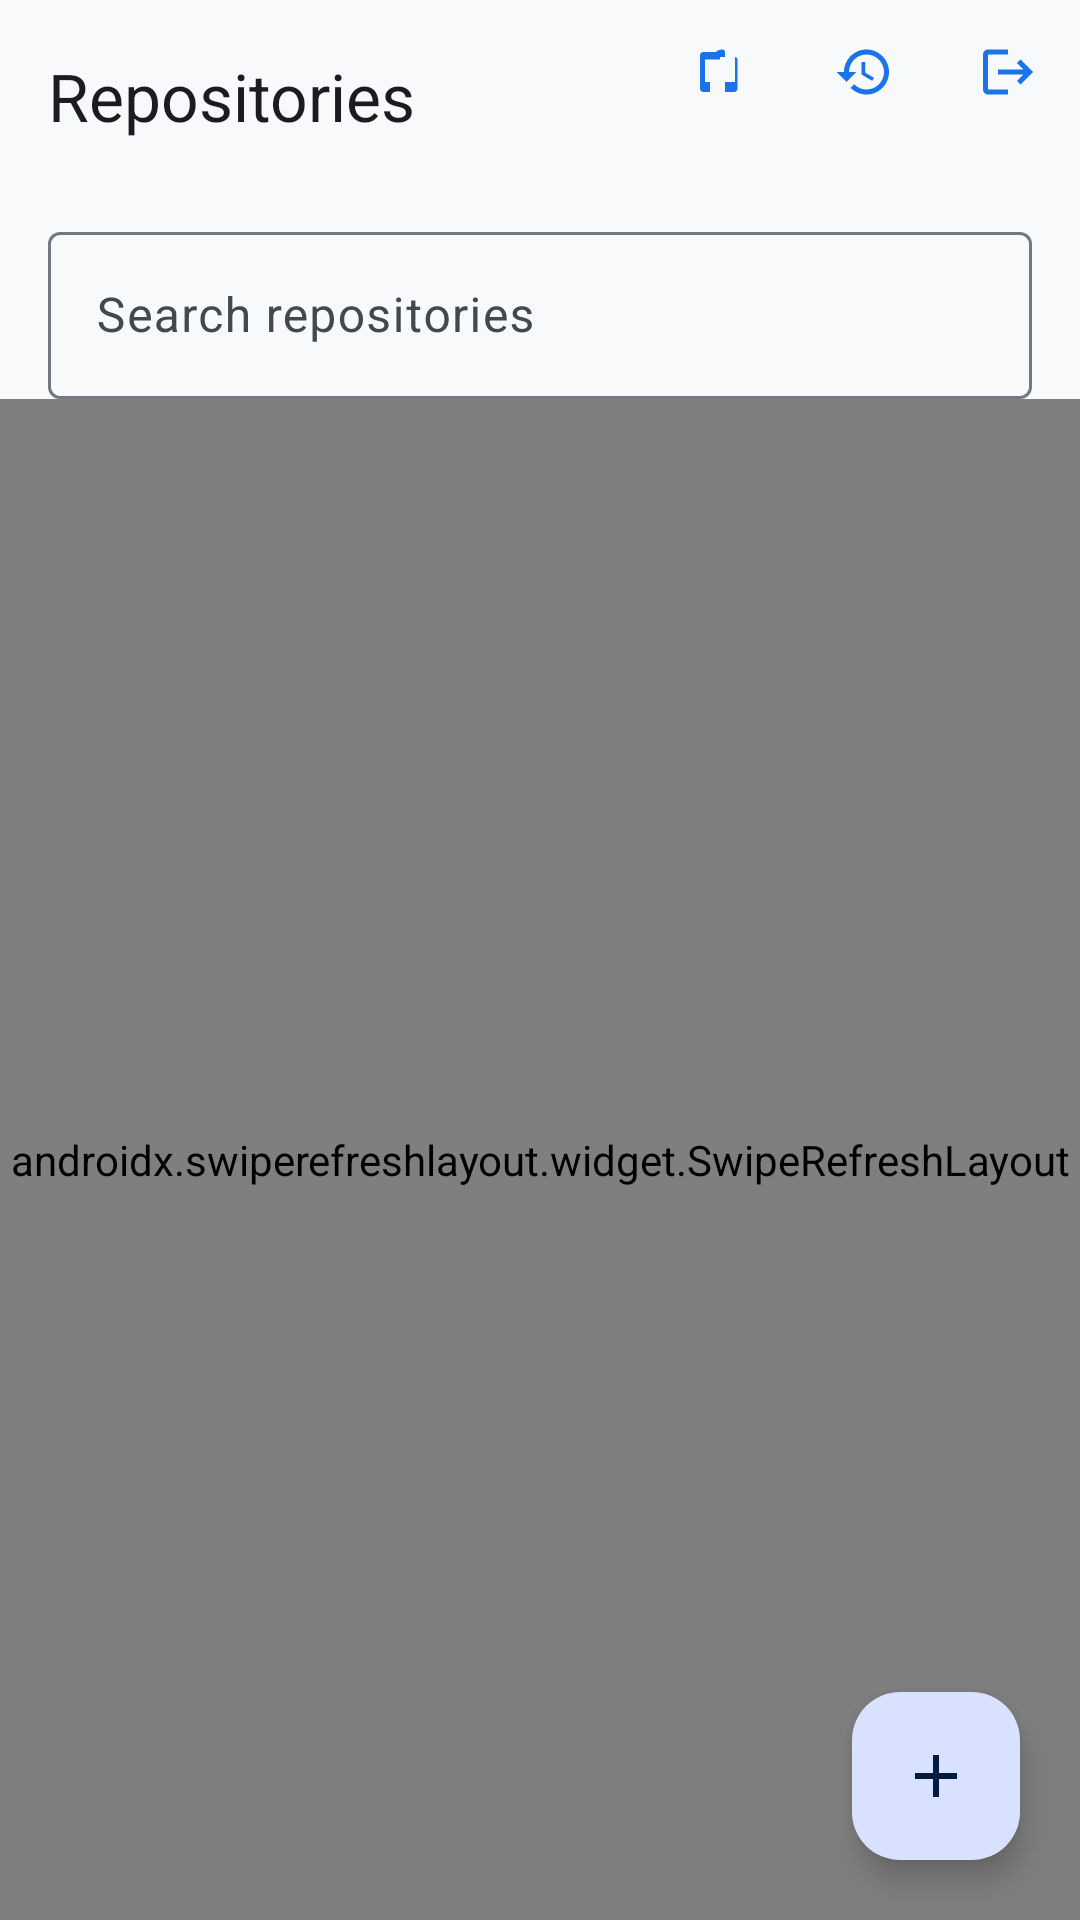

Point at icon controls on the screen. Image size 1080 × 1920, points as point (x, y).
New repository: point (936, 1776)
